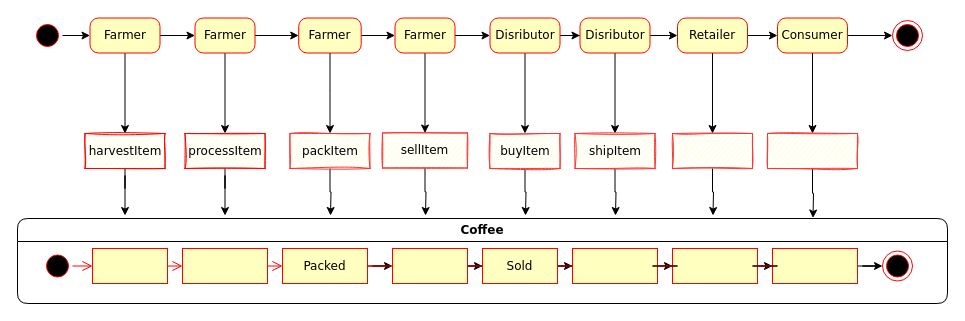
Image size: 965x321. Some labels were removed from this diagram. The shapes that lost their labels are listed below. From the top down, each one's centre as x and y in pixels, then its label:
point (712, 150): receiveItem
point (812, 150): purchaseItem
point (130, 266): Harvested
point (225, 266): Processed
point (430, 266): ForSale
point (615, 266): Shipped
point (715, 266): Received
point (815, 266): Purchased
